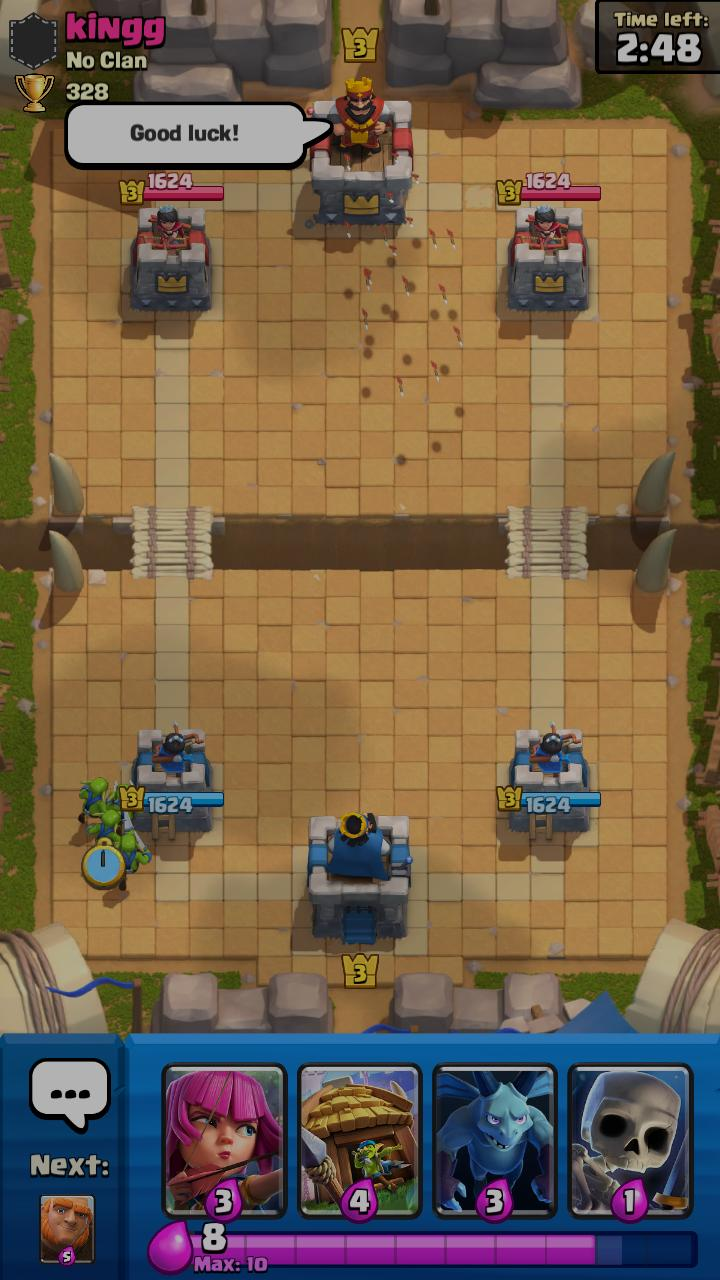ally: (107, 829, 152, 891), (105, 780, 147, 830), (86, 809, 135, 850), (77, 777, 119, 824)
